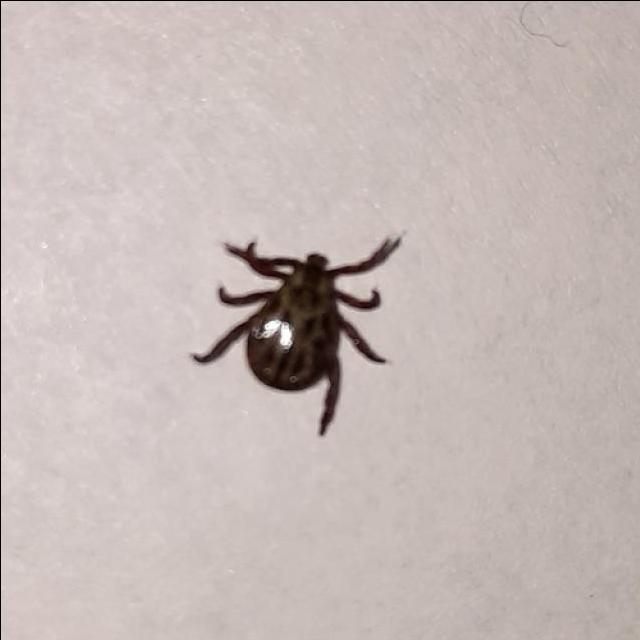Dermacentor Reticulatus-M: (188, 232, 402, 433)
